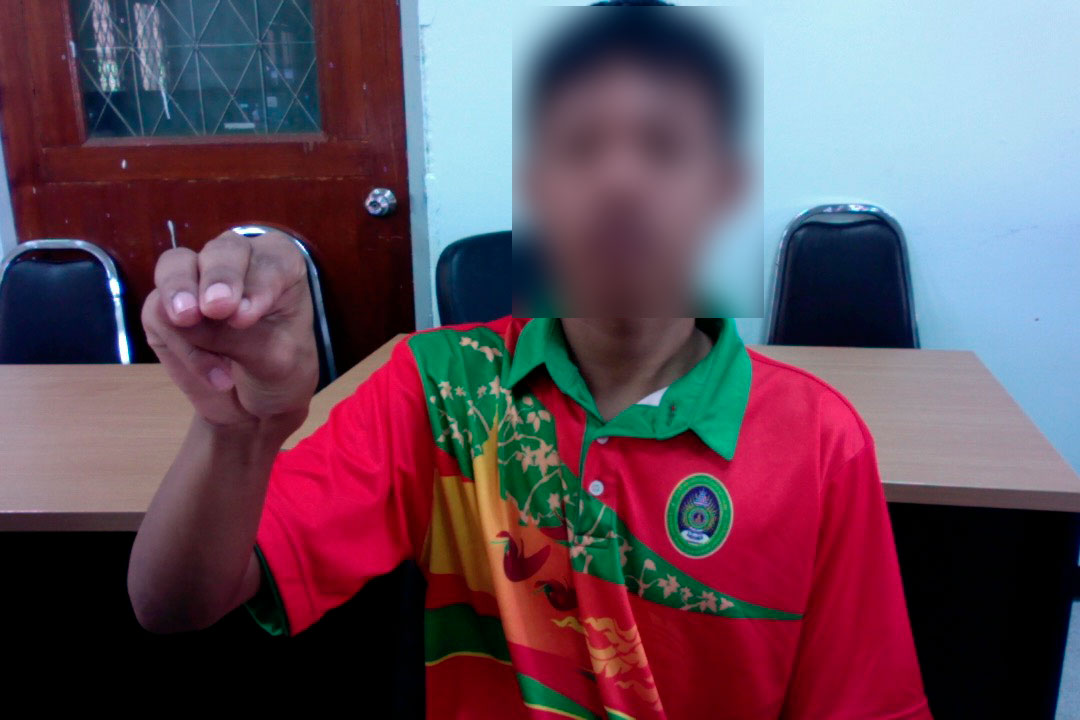mor: (131, 225, 331, 456)
